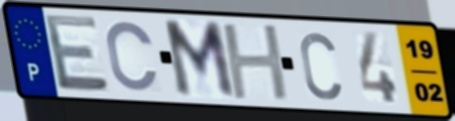4: (358, 30, 401, 108)
C: (104, 18, 162, 94), (296, 29, 344, 103)
E: (41, 12, 113, 93)
H: (219, 23, 294, 103)
M: (160, 18, 240, 102)
